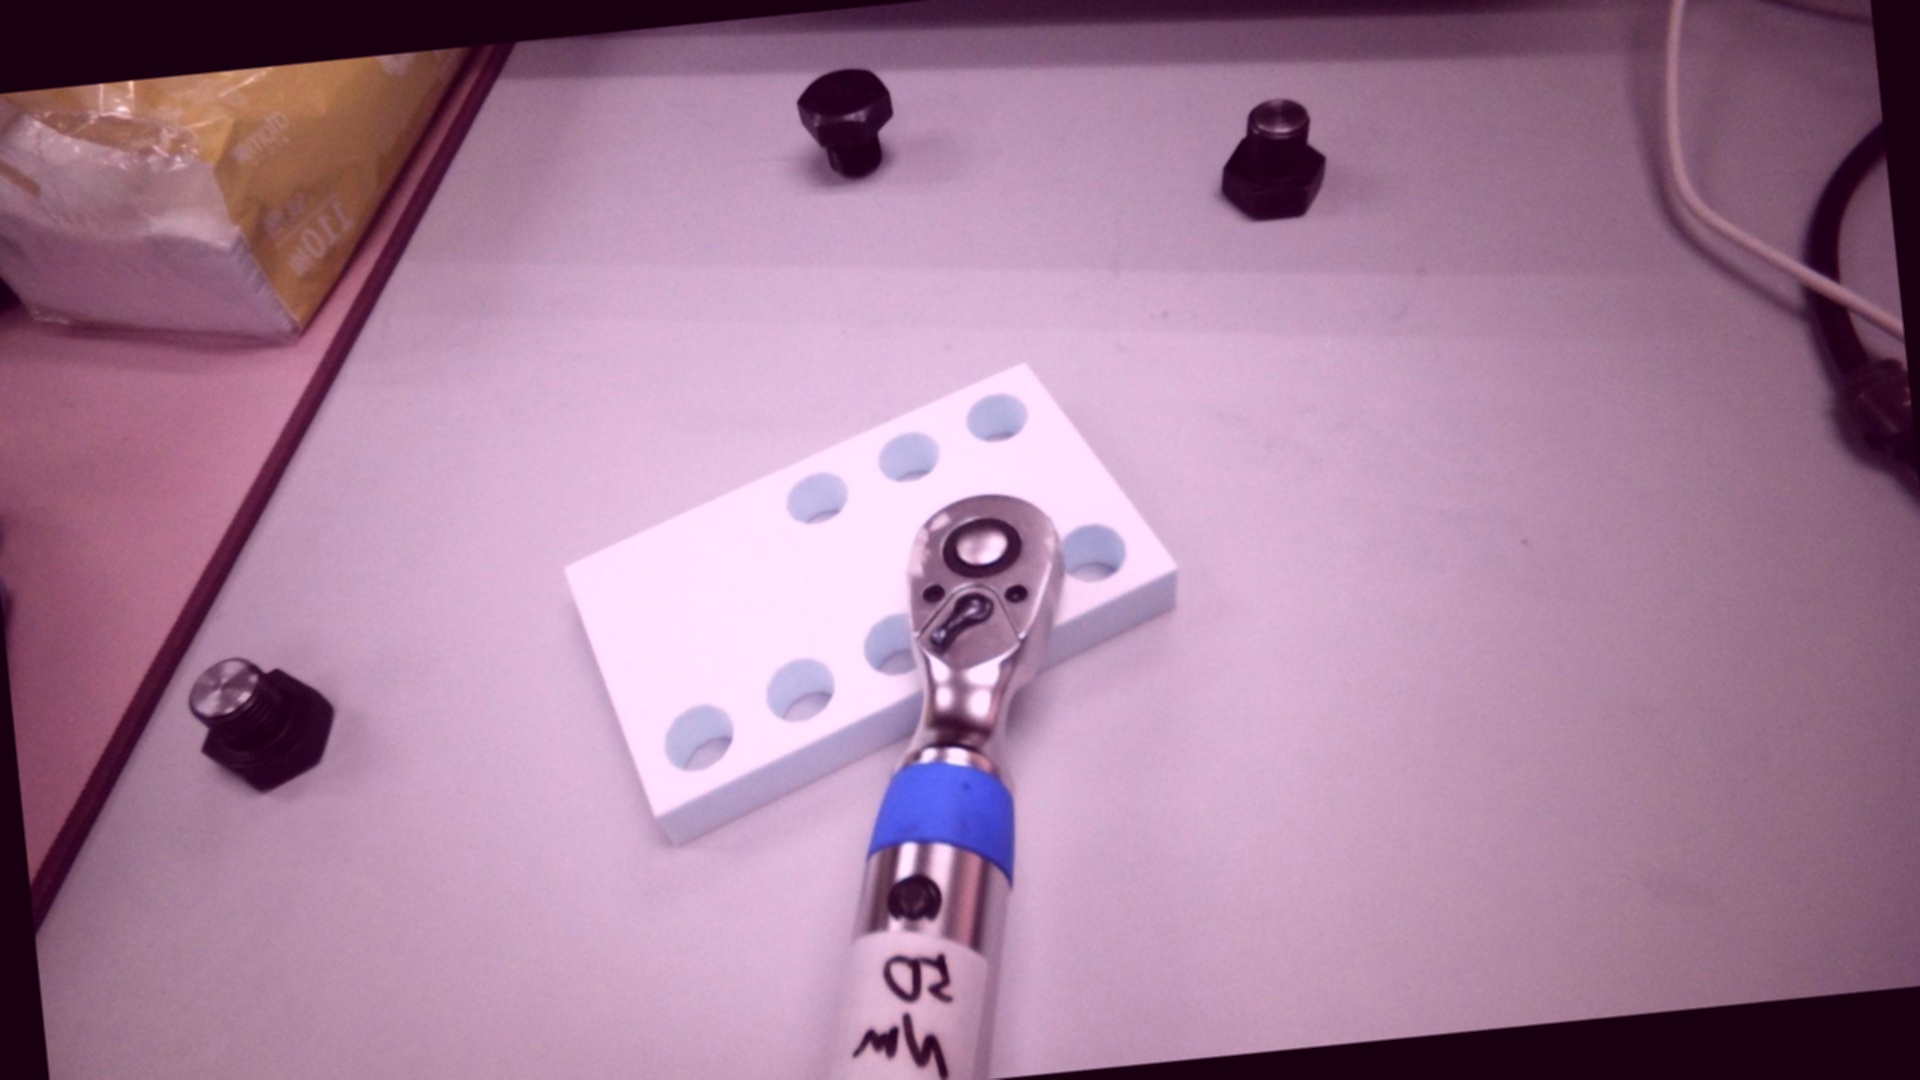hole: (659, 702, 737, 775), (764, 655, 839, 725), (1058, 518, 1129, 585), (860, 612, 922, 680), (782, 469, 852, 529), (963, 390, 1030, 446), (876, 429, 943, 484)
obj: (545, 349, 1199, 857)
wrench: (938, 513, 1025, 582)
